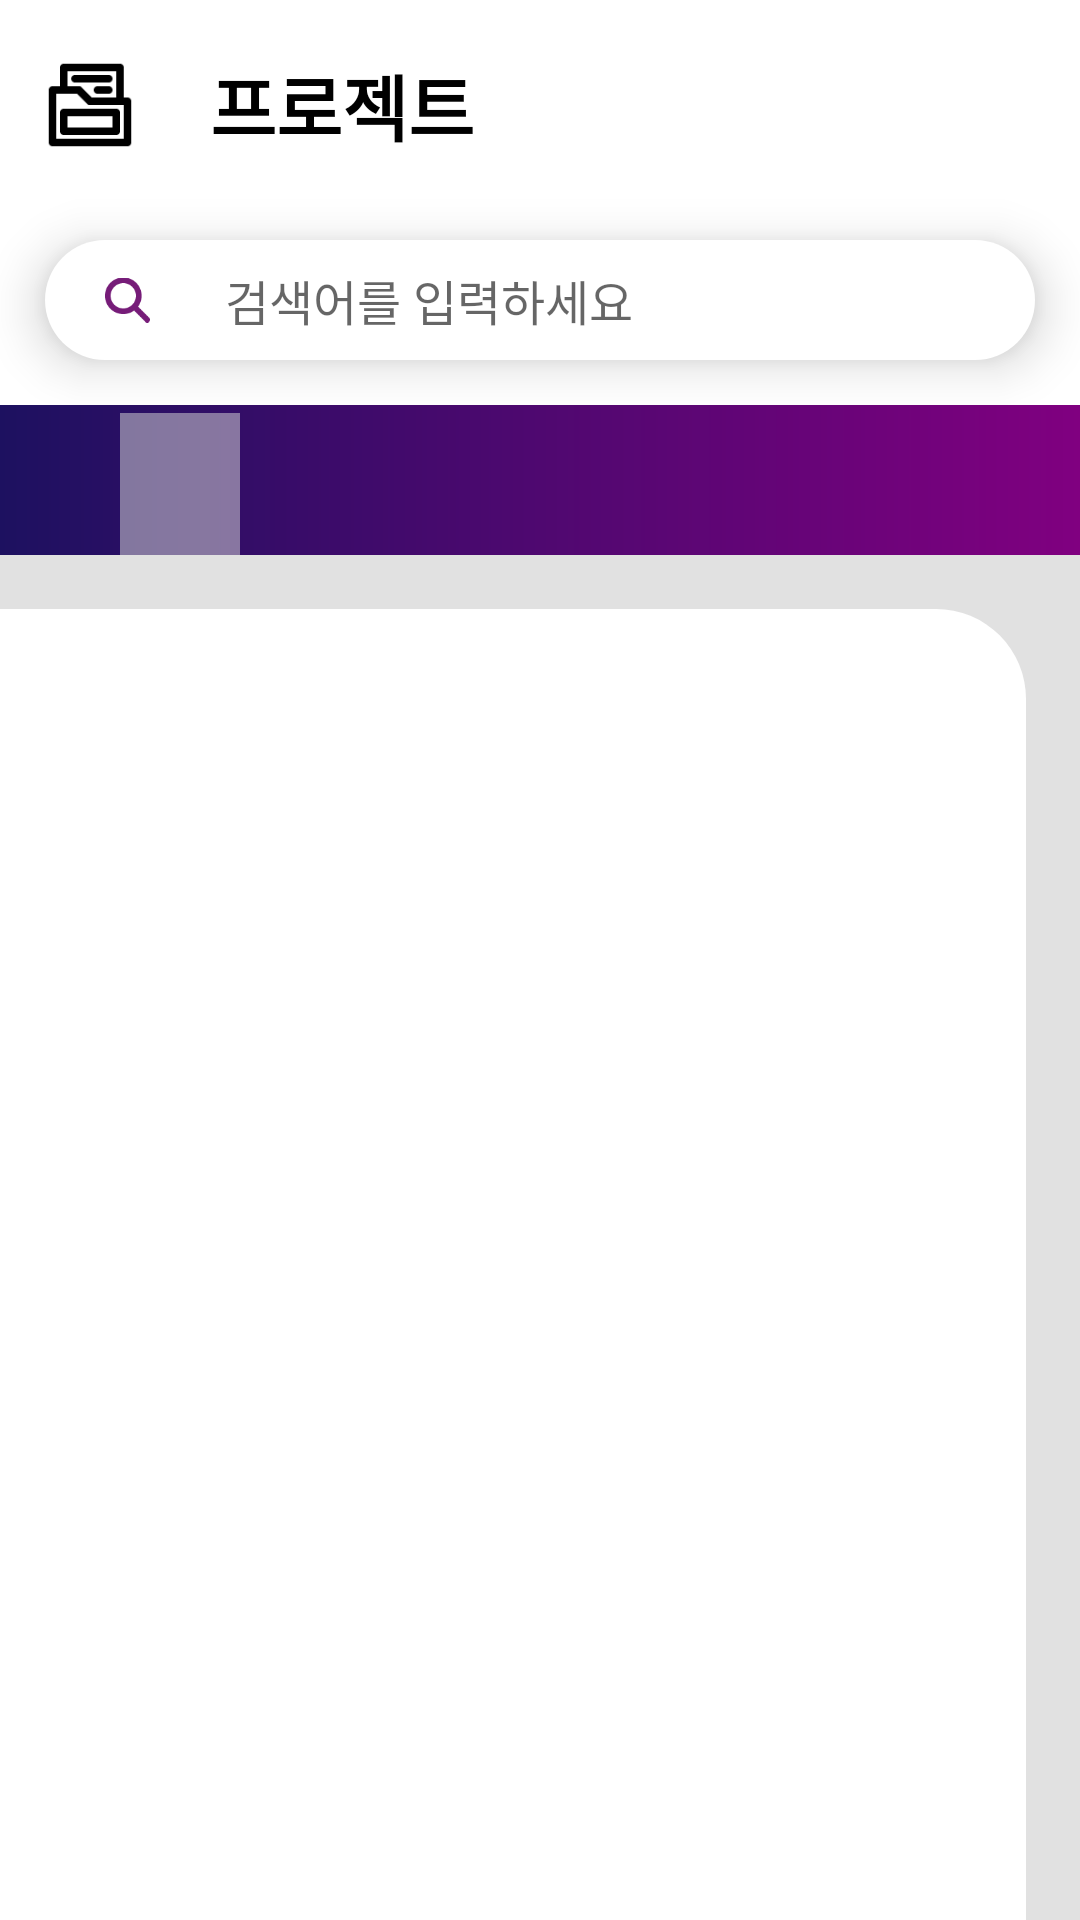

Point at icon controls on the screen. Image size 1080px×1920px, points as (x=x, y=y).
project: (x=90, y=105)
search: (x=127, y=300)
